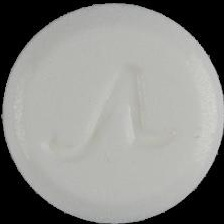53808-0560: (0, 0, 224, 224)
